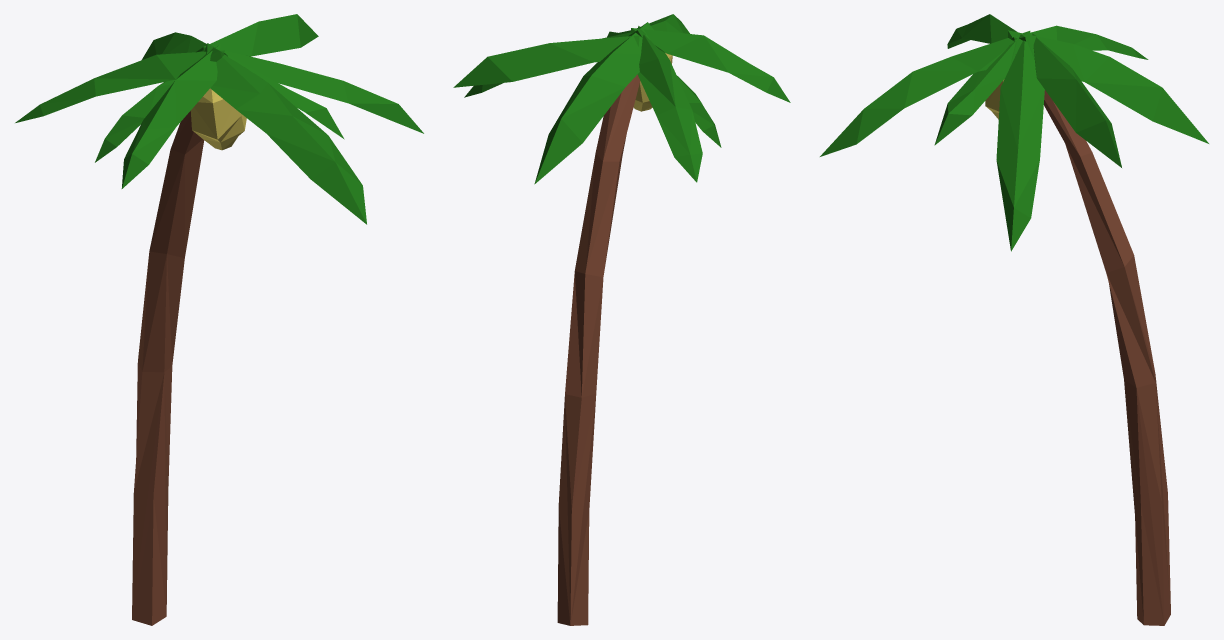
Rendered from Tree_11_summer_vc.fbx.
The picture shows the model from 3 angles, left to right: view 1: azimuth 30°, elevation 25°; view 2: azimuth 150°, elevation 25°; view 3: azimuth 270°, elevation 25°; orthographic projection. The views are drawn at different scales.
Visible parts, largest first — view 1: Tree_11_summer_vc; view 2: Tree_11_summer_vc; view 3: Tree_11_summer_vc.
Part boxes in pixels (x1,y1,x2,y2): Tree_11_summer_vc: [15, 14, 423, 625]; Tree_11_summer_vc: [453, 14, 790, 625]; Tree_11_summer_vc: [820, 14, 1208, 625].
Bounding box in the file's own units: 3.03 × 5.37 × 3.23.
